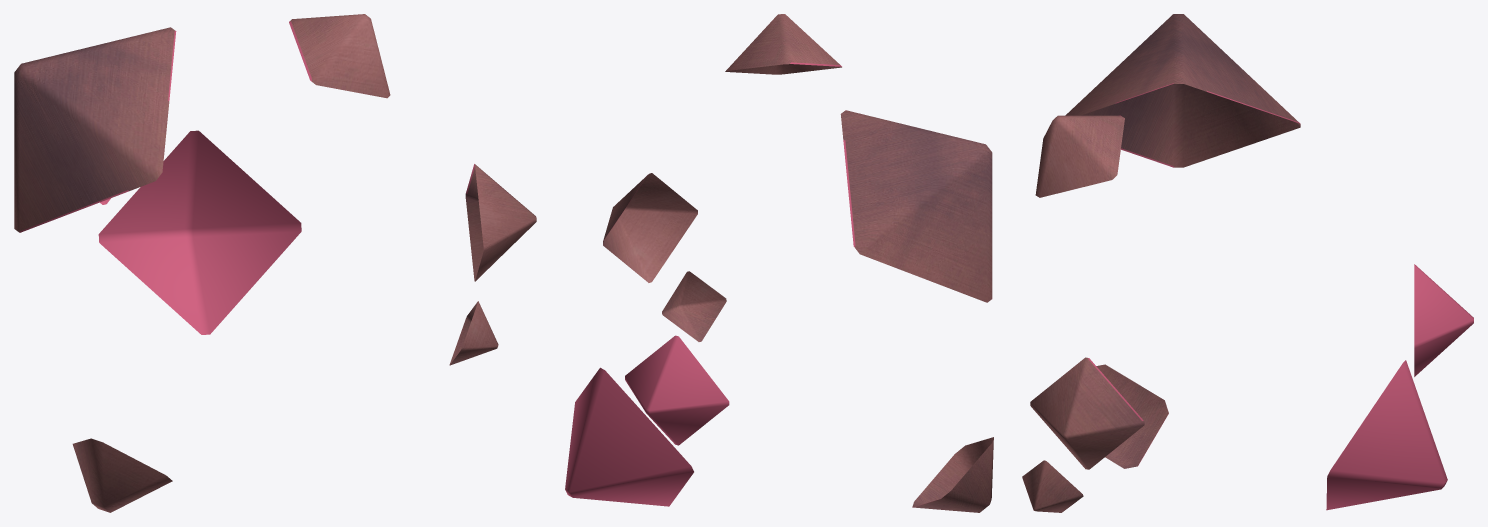
Rendered from LongshotGeodeCrystalMesh.obj.
The picture shows the model from 3 angles, left to right: view 1: azimuth 30°, elevation 25°; view 2: azimuth 150°, elevation 25°; view 3: azimuth 270°, elevation 25°; orthographic projection. The views are drawn at different scales.
Visible parts, largest first — view 1: LongshotGeodeCrystalMesh_Longshot_Geode_Crystal; view 2: LongshotGeodeCrystalMesh_Longshot_Geode_Crystal; view 3: LongshotGeodeCrystalMesh_Longshot_Geode_Crystal.
Part boxes in pixels (x1=…): LongshotGeodeCrystalMesh_Longshot_Geode_Crystal: x1=14, y1=14, x2=536, y2=512; LongshotGeodeCrystalMesh_Longshot_Geode_Crystal: x1=565, y1=14, x2=993, y2=512; LongshotGeodeCrystalMesh_Longshot_Geode_Crystal: x1=1022, y1=14, x2=1473, y2=512.
Size of the model in its own units: 2 by 1.89 by 1.77.
1 material, 1 textured.
